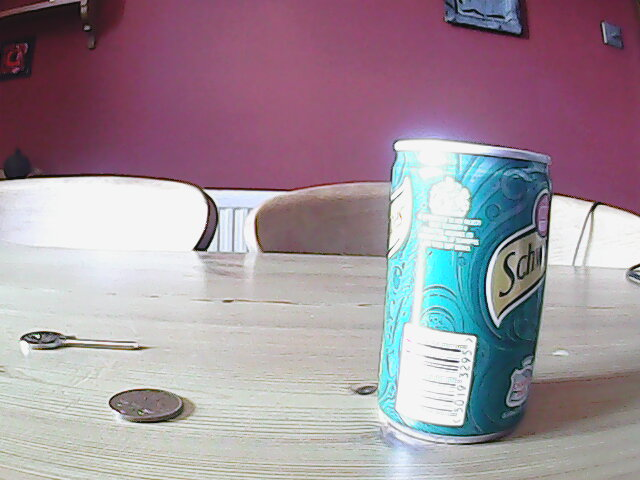Can: (372, 136, 555, 447)
Coin: (109, 387, 184, 425)
Key: (17, 330, 142, 361)
